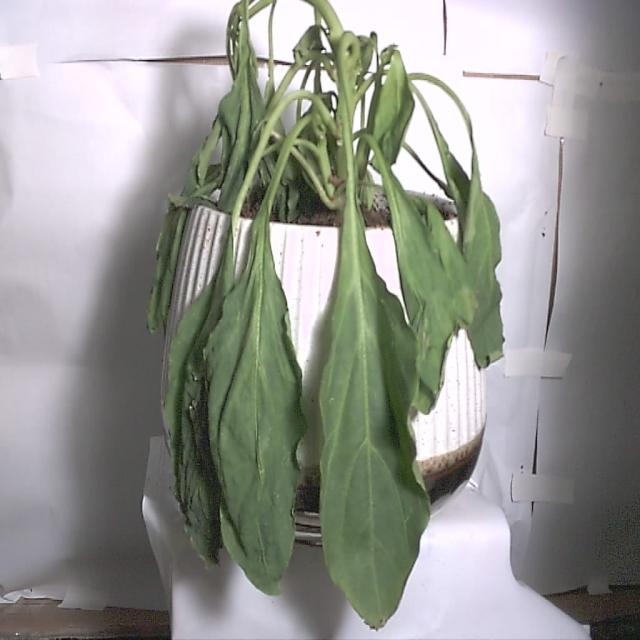Leaf: (315, 216, 430, 630), (201, 216, 302, 606)
